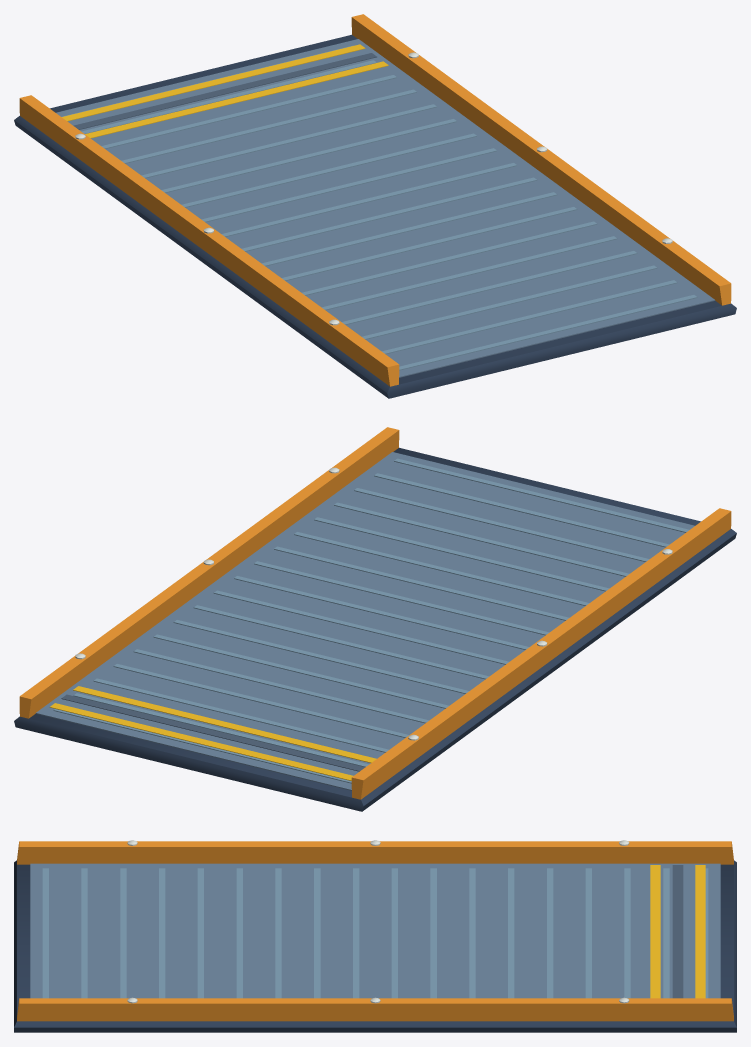
Rendered from Ramp.glb.
3 renders of one model, top to bottom at view 1: azimuth 30°, elevation 25°; view 2: azimuth 150°, elevation 25°; view 3: azimuth 270°, elevation 25°, orthographic. The views are drawn at different scales.
Visible parts, largest first — view 1: grip_deck, ramp_plate, rail_-1, rail_1, end_hazard_2, end_hazard_0, end_hazard_1, cross_grip_17, cross_grip_3, cross_grip_6, cross_grip_9, cross_grip_12 (+12 smaller); view 2: grip_deck, ramp_plate, rail_-1, rail_1, end_hazard_0, end_hazard_1, end_hazard_2, cross_grip_2, cross_grip_5, cross_grip_8, cross_grip_11, cross_grip_14 (+13 smaller); view 3: grip_deck, rail_1, rail_-1, ramp_plate, end_hazard_1, end_hazard_0, end_hazard_2, cross_grip_1, cross_grip_6, cross_grip_7, cross_grip_10, cross_grip_11 (+13 smaller).
Part boxes in pixels (x1,y1,x2,y2): grip_deck: (56,39,715,377); ramp_plate: (14,34,736,398); rail_-1: (19,95,399,386); rail_1: (351,14,731,305); end_hazard_2: (85,61,388,138); end_hazard_0: (62,44,365,121); end_hazard_1: (73,53,376,129); cross_grip_17: (399,295,697,370); cross_grip_3: (121,89,416,163); cross_grip_6: (181,133,476,207); cross_grip_9: (241,177,537,251); cross_grip_12: (302,221,597,295); grip_deck: (35,452,694,790); ramp_plate: (14,447,736,811); rail_-1: (351,508,731,799); rail_1: (19,427,399,718); end_hazard_0: (49,703,353,780); end_hazard_1: (61,694,364,771); end_hazard_2: (73,686,376,762); cross_grip_2: (93,678,388,752); cross_grip_5: (153,634,448,708); cross_grip_8: (213,590,509,664); cross_grip_11: (274,546,569,620); cross_grip_14: (334,502,629,576); grip_deck: (30,863,720,998); rail_1: (17,998,733,1021); rail_-1: (17,841,733,864); ramp_plate: (14,860,736,1032); end_hazard_1: (672,865,683,998); end_hazard_0: (695,865,705,998); end_hazard_2: (650,865,660,998); cross_grip_1: (663,868,669,998); cross_grip_6: (469,868,475,998); cross_grip_7: (430,868,436,998); cross_grip_10: (314,868,320,998); cross_grip_11: (275,868,281,998).
Bounding box in the file's own units: 6.76 × 0.59 × 12.5.
